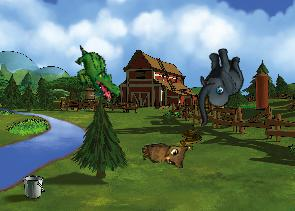crocodile: (62, 43, 131, 105)
elephant: (181, 44, 254, 126)
owl: (140, 140, 190, 173)
